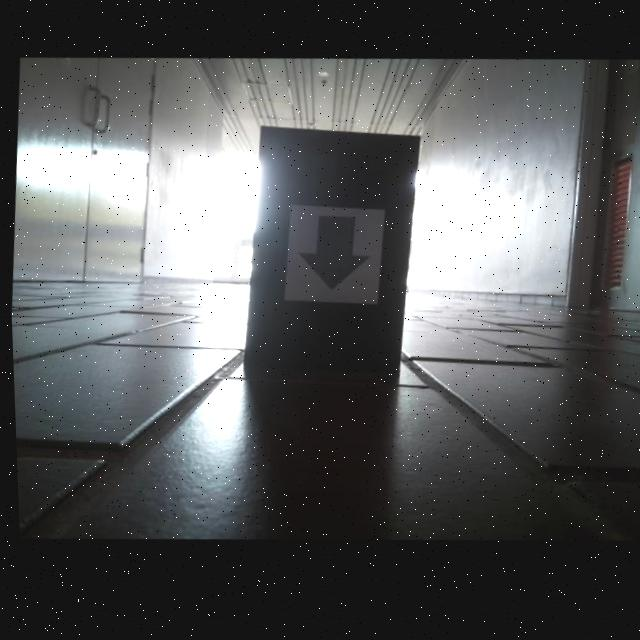DOWN: (294, 219, 368, 296)
